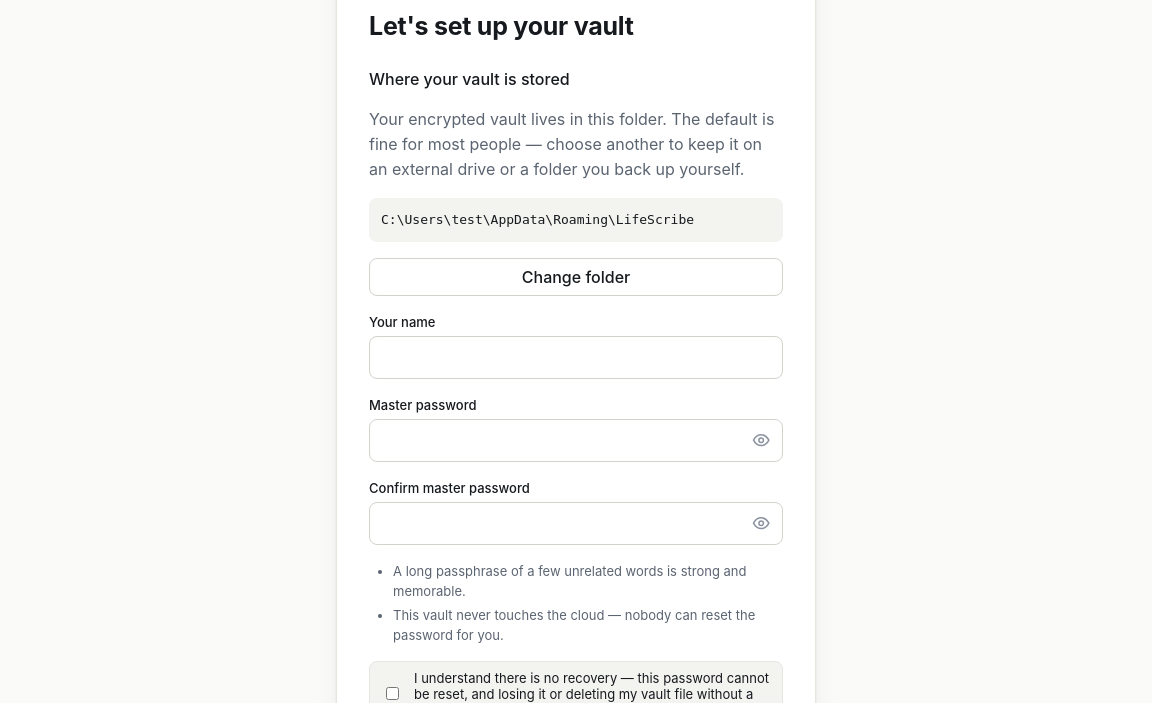
Test: App › walks setup through to the dashboard welcome state
(page scrolled)
Check: the heading "Let's set up your vault" is shown, box x1=369 y1=11 x2=634 y2=41
Type "Dana" into the field labelled "Your name".
click(576, 357); type("Dana")  # box x1=369 y1=336 x2=783 y2=379
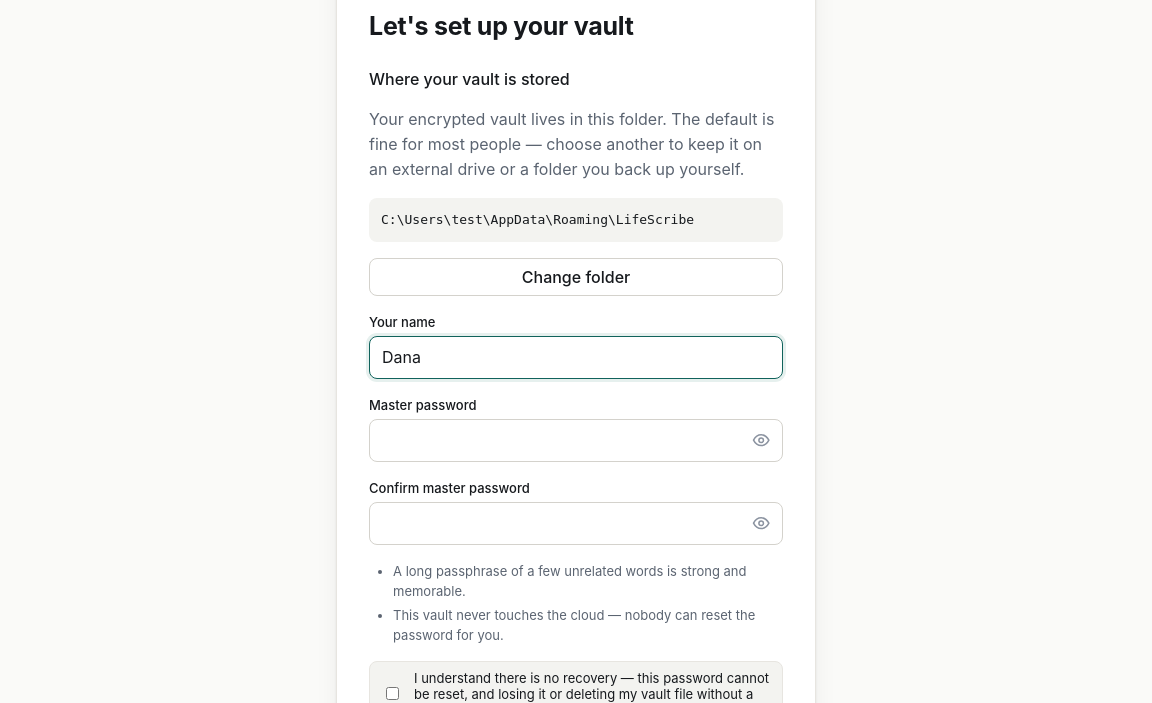
Type "correct horse battery staple" into the password field labelled "Master password".
click(576, 440); type("correct horse battery staple")  # box x1=369 y1=419 x2=783 y2=462
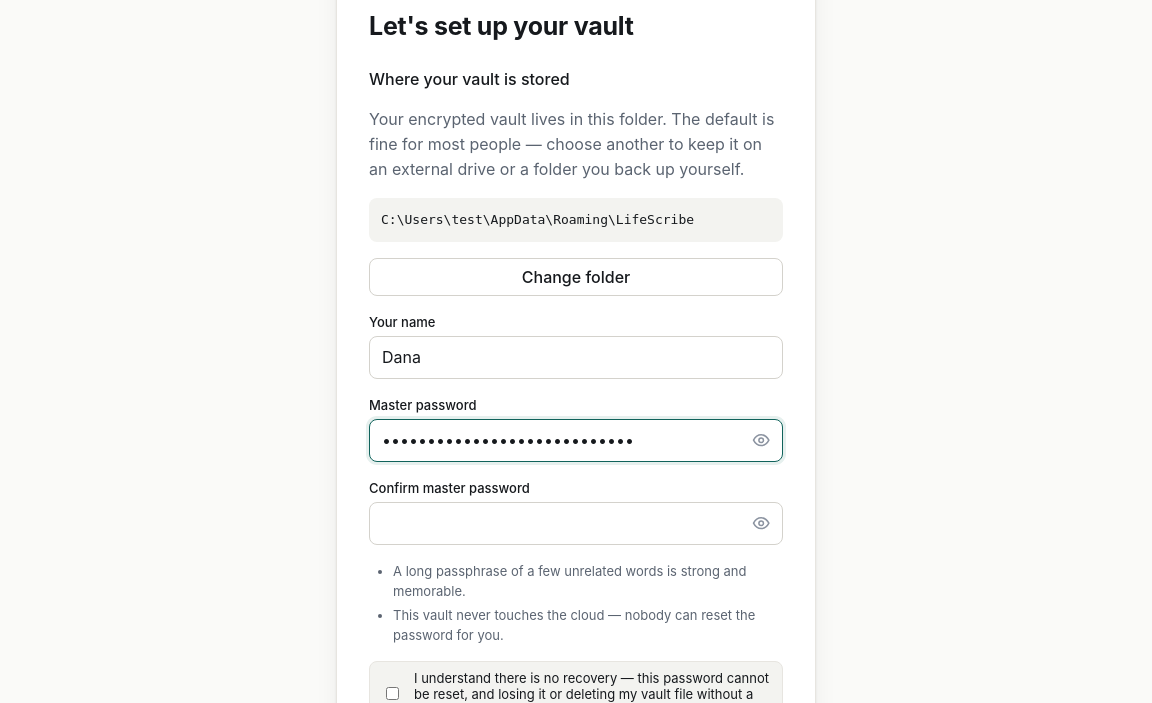
Type "correct horse battery staple" into the password field labelled "Confirm master password".
click(576, 523); type("correct horse battery staple")  # box x1=369 y1=502 x2=783 y2=545
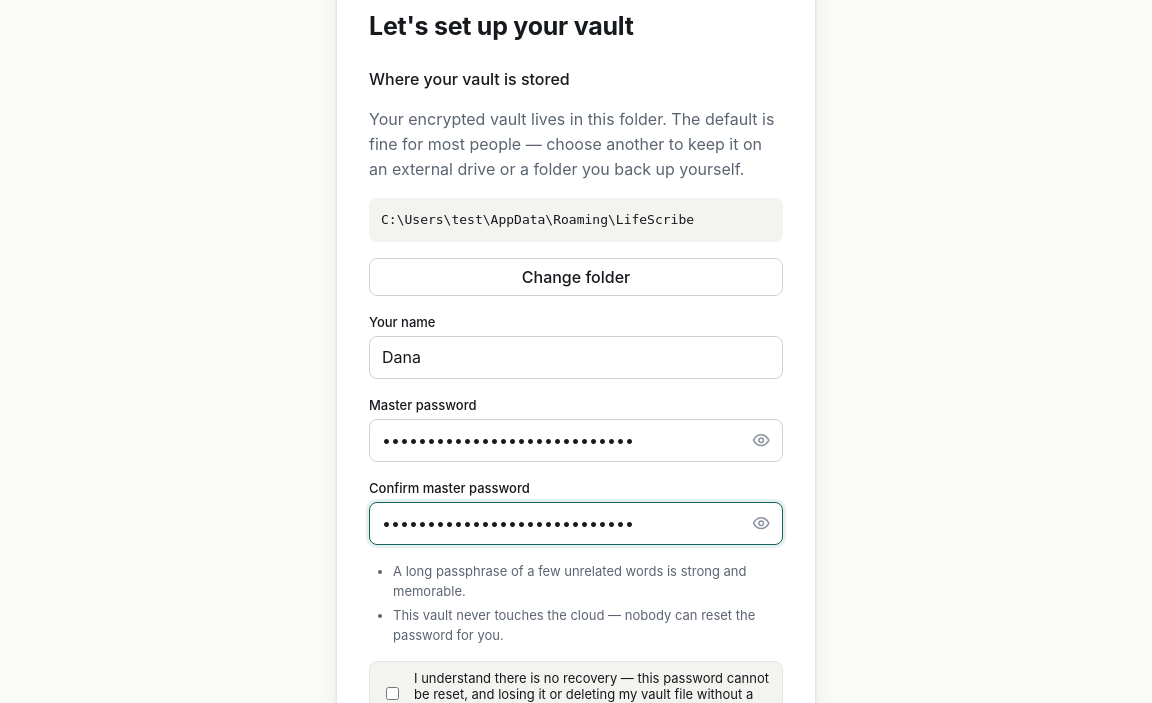
Click the checkbox labelled "I understand there is no recovery".
click(392, 693)  # box x1=386 y1=687 x2=399 y2=700
(page scrolled)
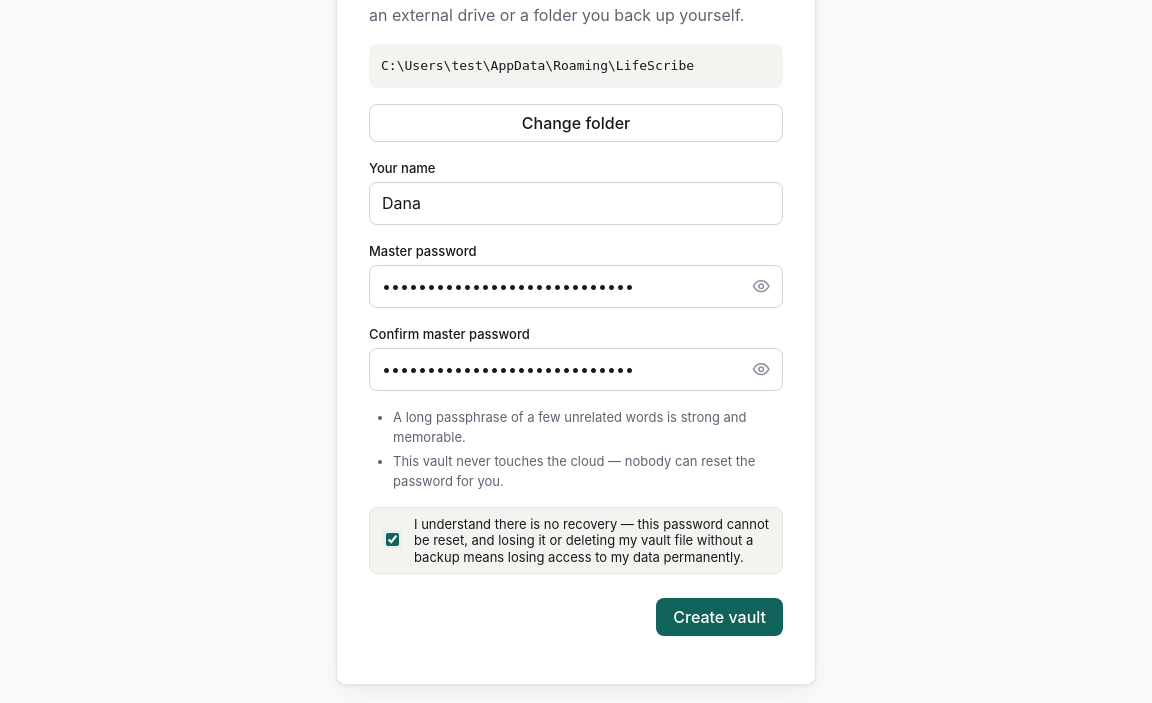
Click the button "Create vault".
click(720, 617)  # box x1=656 y1=598 x2=783 y2=636
(page scrolled)
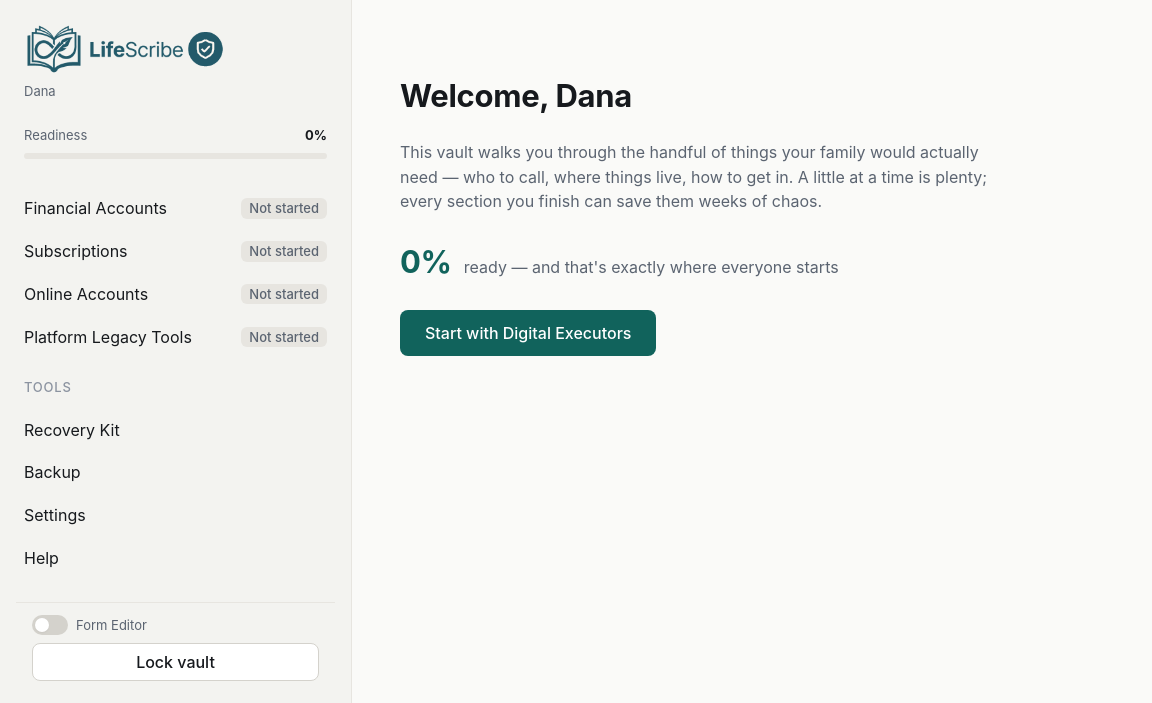
Check: the heading "Welcome, Dana" is shown, box x1=400 y1=77 x2=632 y2=114
Check: the text "0%" in the row of "Readiness" is shown, box x1=305 y1=125 x2=327 y2=145
Check: the button "Start with Digital Executors" is shown, box x1=400 y1=310 x2=656 y2=356
